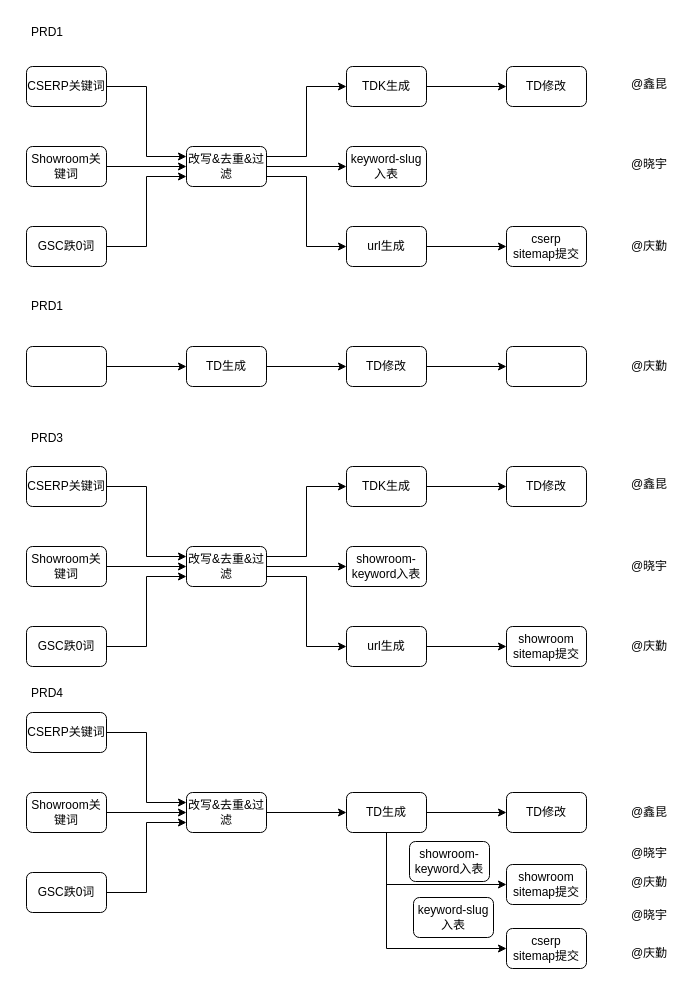
The diagram is 696 pixels wide and 986 high, and some of its shapes have lost their labels. Each missing label, with the centre of its shape:
City-cserp分流: point (66, 366)
sitemap分离: point (546, 366)
